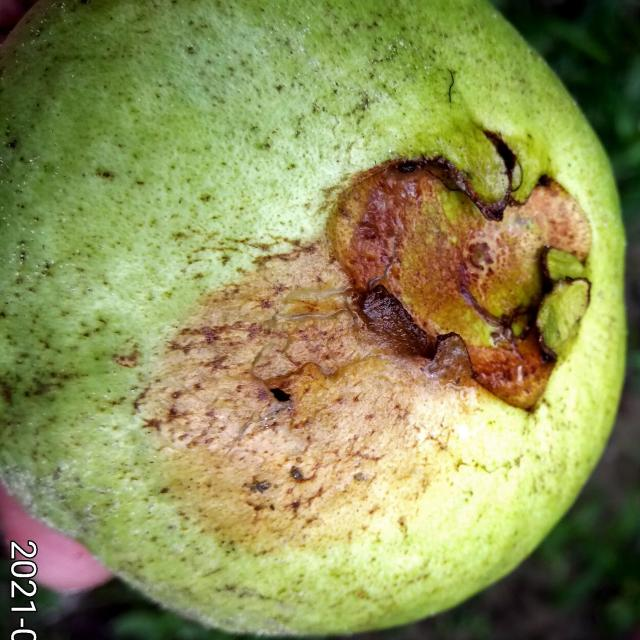Styler and Root: (0, 1, 625, 634)
